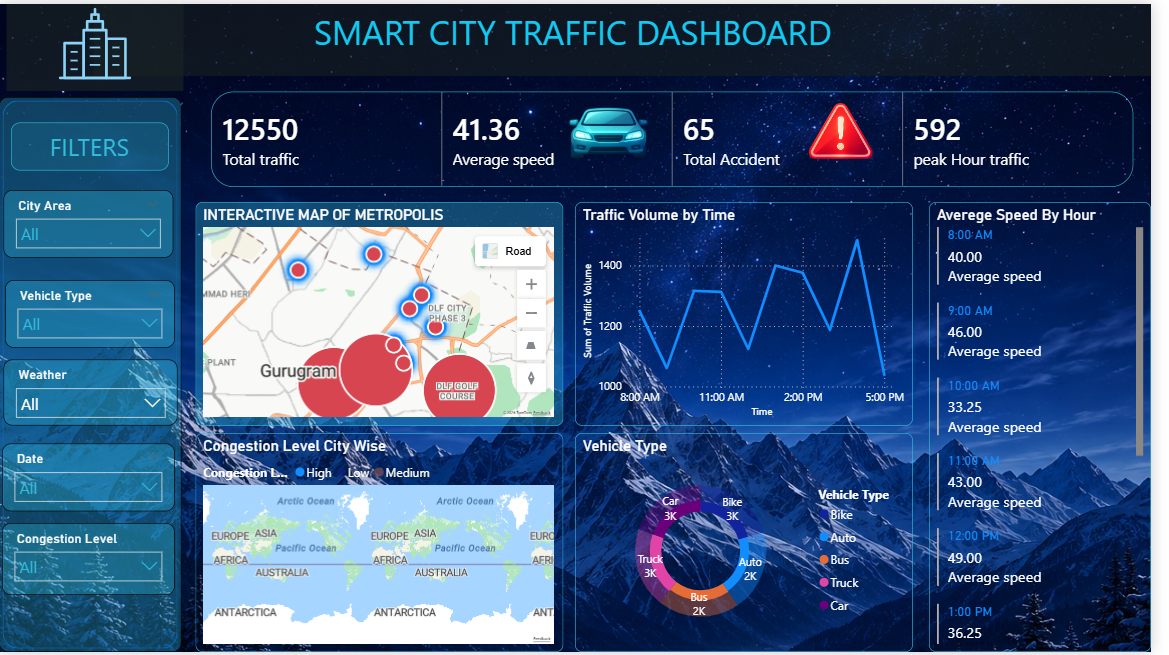

What the dashboard file says about the page in this screenshot:
{"tool":"powerbi","page":{"name":"smart city dashboard","canvas":[1280,720],"ordinal":0},"visuals":[{"type":"cardVisual","fields":{"Data":["Traffic Data (2).Total traffic","Traffic Data (2).Average speed","Traffic Data (2).Total Accident","Traffic Data (2).peak Hour traffic"]},"box":[218.3,80,1061.7,140],"z":0},{"type":"textbox","box":[105,0,1175,80],"z":1},{"type":"image","box":[8.3,0,196.7,96.7],"z":2},{"type":"lineChart","title":"Traffic Volume by Time","fields":{"Category":["Traffic Data (2).Time"],"Y":["Sum(Traffic Data (2).Traffic Volume)"]},"box":[640,220,375,248.3],"z":3},{"type":"donutChart","title":"Vehicle Type","fields":{"Category":["Traffic Data (2).Vehicle Type"],"Y":["Sum(Traffic Data (2).Traffic Volume)"]},"box":[640,476.7,375,243.3],"z":4},{"type":"azureMap","title":"INTERACTIVE MAP OF METROPOLIS","fields":{"X":["Traffic Data (2).Longitude"],"Y":["Traffic Data (2).Latitude"],"Size":["CountNonNull(Traffic Data (2).Accident Count)"]},"box":[218.3,220,408.3,248.3],"z":5},{"type":"azureMap","title":"Congestion Level City Wise","fields":{"X":["Traffic Data (2).Longitude"],"Y":["Traffic Data (2).Latitude"],"Series":["Traffic Data (2).Congestion Level"]},"box":[218.3,476.7,408.3,243.3],"z":6},{"type":"shape","box":[0,103.6,202.4,616.9],"z":8},{"type":"slicer","fields":{"Values":["Traffic Data (2).City Area"]},"box":[5,206.7,188.3,75],"z":9},{"type":"slicer","fields":{"Values":["Traffic Data (2).Vehicle Type"]},"box":[6.7,306.7,188.3,75],"z":10},{"type":"slicer","fields":{"Values":["Traffic Data (2).Weather"]},"box":[5,395,193.3,73.3],"z":11},{"type":"slicer","fields":{"Values":["Traffic Data (2).Date"]},"box":[3.3,488.3,191.7,75],"z":12},{"type":"slicer","fields":{"Values":["Traffic Data (2).Congestion Level"]},"box":[3.3,576.7,191.7,80],"z":13},{"type":"multiRowCard","title":"Averege Speed By Hour","fields":{"Values":["Traffic Data (2).Time","Traffic Data (2).Average speed"]},"box":[1033.3,220,246.7,500],"z":14},{"type":"textbox","box":[13.3,131.7,175,53.3],"z":15},{"type":"image","box":[626.7,115,101.7,56.7],"z":16},{"type":"image","box":[890,110,91.7,61.7],"z":17}]}

Visuals, with their boxes in screenshot pixels (x1, y1, x2, y2), scaled from the page's 1280x720 canvas onto the 1169x655 screenshot:
cardVisual - Traffic Data (2).Total traffic x Traffic Data (2).Average speed: (left=199, top=73, right=1168, bottom=200)
textbox: (left=96, top=0, right=1168, bottom=73)
image: (left=8, top=0, right=187, bottom=88)
"Traffic Volume by Time" lineChart: (left=584, top=200, right=927, bottom=426)
"Vehicle Type" donutChart: (left=584, top=434, right=927, bottom=654)
"INTERACTIVE MAP OF METROPOLIS" azureMap: (left=199, top=200, right=572, bottom=426)
"Congestion Level City Wise" azureMap: (left=199, top=434, right=572, bottom=654)
shape: (left=0, top=94, right=185, bottom=654)
slicer - Traffic Data (2).City Area: (left=5, top=188, right=177, bottom=256)
slicer - Traffic Data (2).Vehicle Type: (left=6, top=279, right=178, bottom=347)
slicer - Traffic Data (2).Weather: (left=5, top=359, right=181, bottom=426)
slicer - Traffic Data (2).Date: (left=3, top=444, right=178, bottom=512)
slicer - Traffic Data (2).Congestion Level: (left=3, top=525, right=178, bottom=597)
"Averege Speed By Hour" multiRowCard: (left=944, top=200, right=1168, bottom=654)
textbox: (left=12, top=120, right=172, bottom=168)
image: (left=572, top=105, right=665, bottom=156)
image: (left=813, top=100, right=897, bottom=156)
